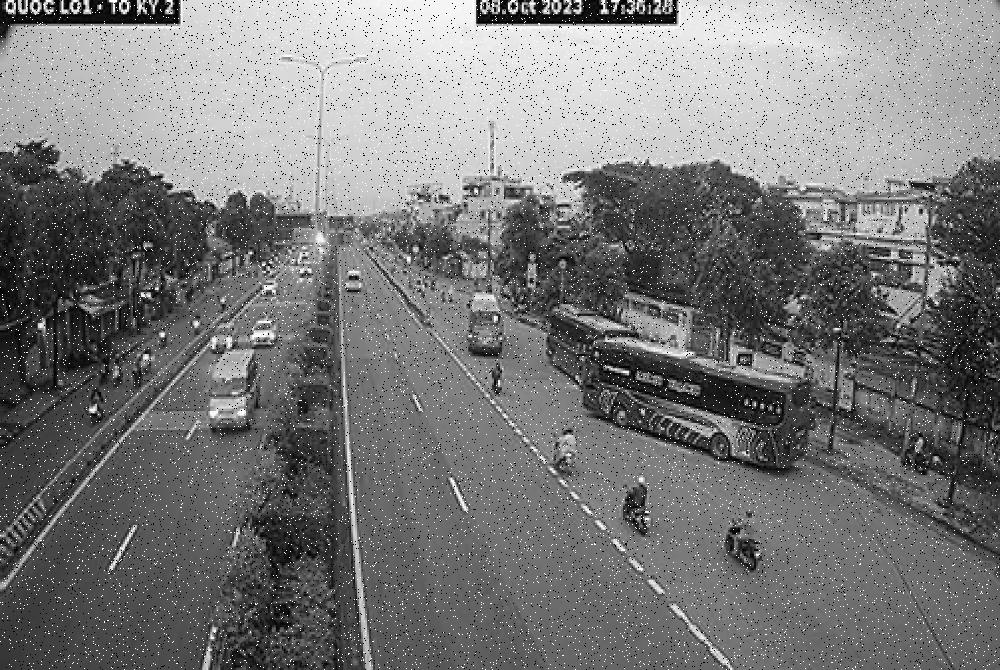bus: (576, 332, 824, 475), (534, 294, 633, 392), (465, 280, 505, 366)
car: (207, 343, 258, 453)
